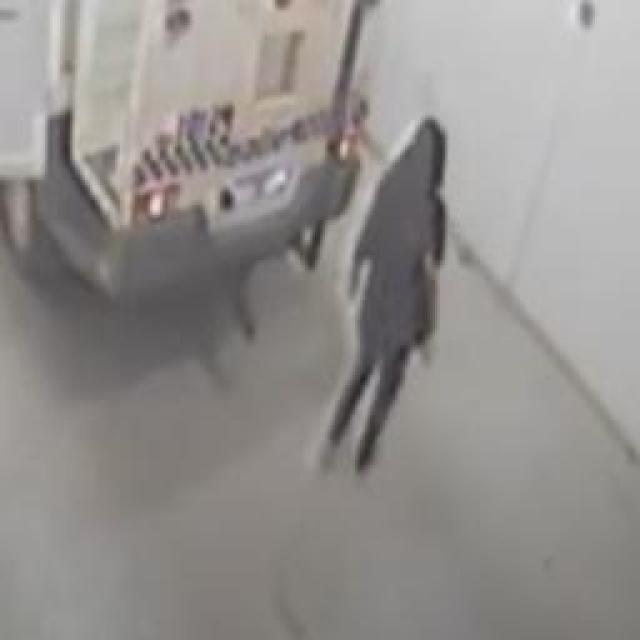person: (280, 90, 520, 492)
